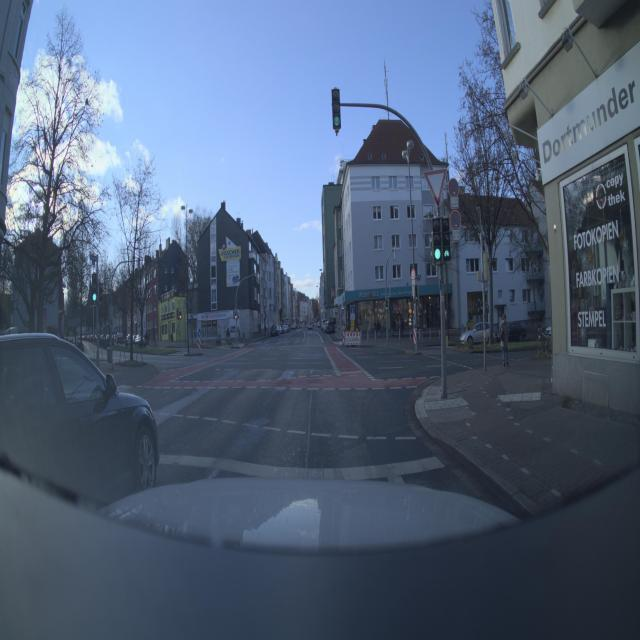green_light: (428, 210, 454, 267), (327, 86, 347, 135), (88, 272, 101, 308)
